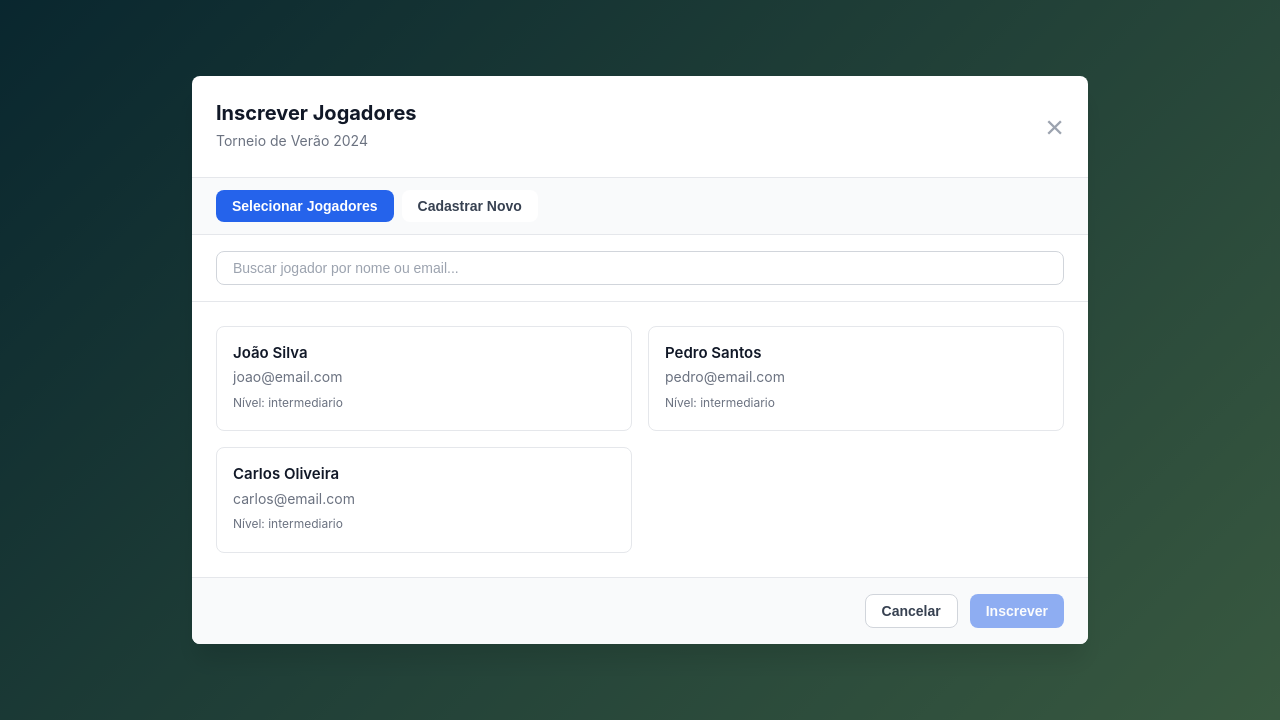
Test case: ModalInscricao › tabs de navegação › deve trocar para aba de cadastro ao clicar
Click the button "Cadastrar Novo" at (470, 206), box [402,190,538,222]
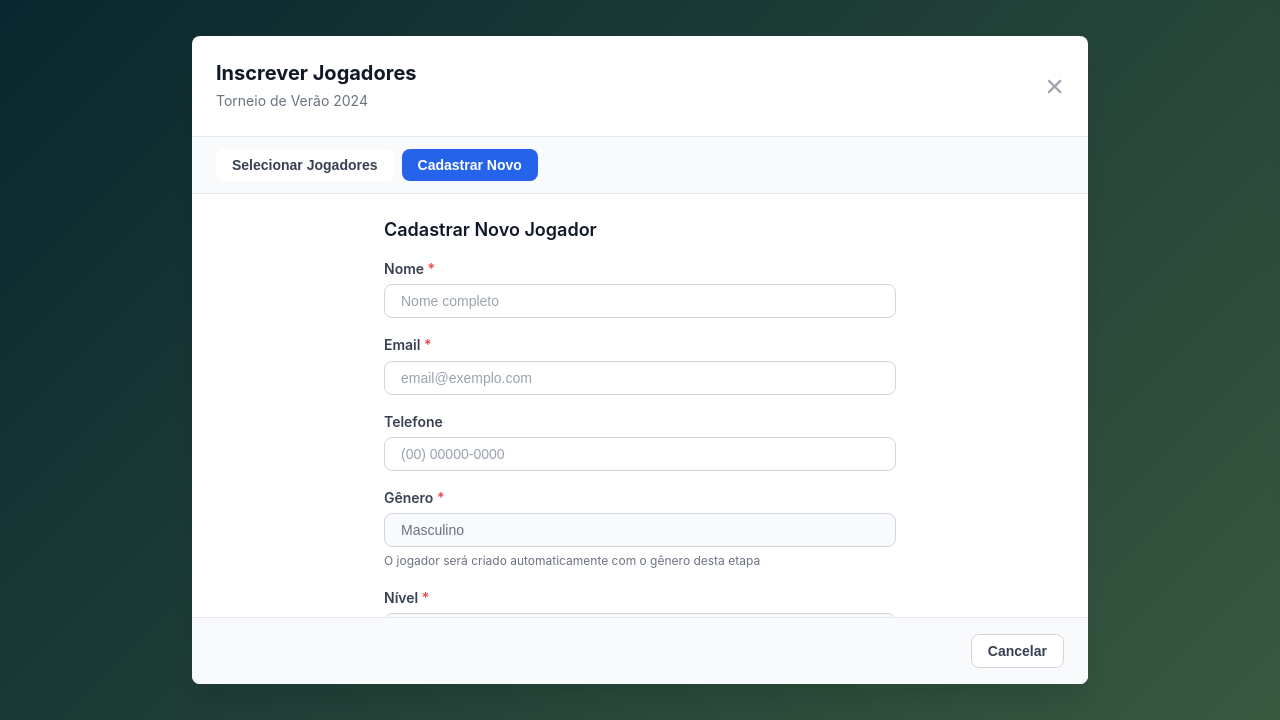
Check: the heading "Cadastrar Novo Jogador" is shown, box [384,219,597,240]
